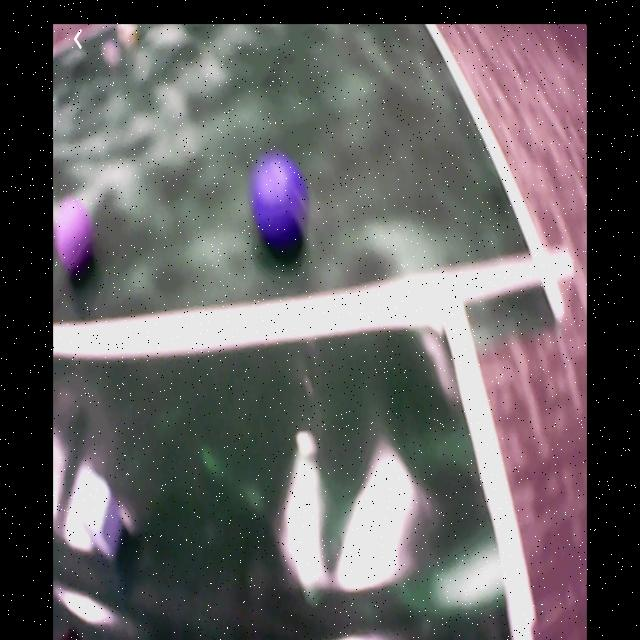ball: (254, 159, 309, 255), (55, 201, 96, 278)
